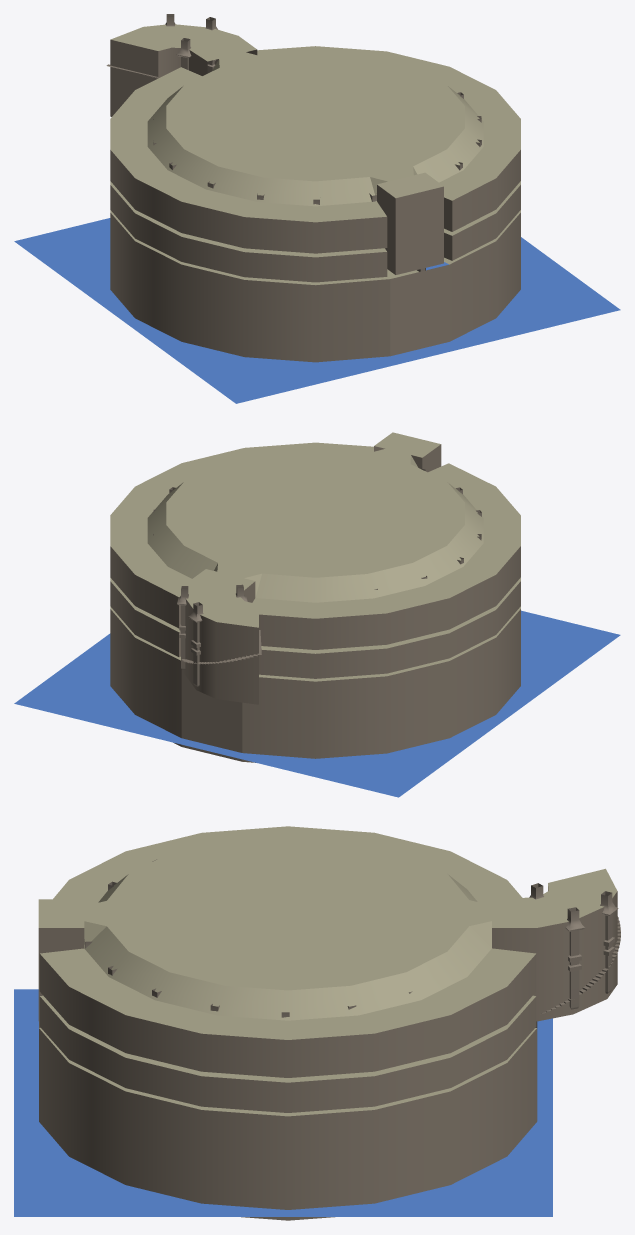
The model's file is MDL_Stage01.fbx.
3 views of the same model, one above another, from view 1: azimuth 30°, elevation 25°; view 2: azimuth 150°, elevation 25°; view 3: azimuth 270°, elevation 25° (orthographic). The views are drawn at different scales.
Parts seen in each view (by area): view 1: stage; view 2: stage; view 3: stage.
Part boxes in pixels (x1,y1,x2,y2): stage: [14, 14, 620, 403]; stage: [14, 432, 620, 797]; stage: [14, 826, 620, 1220].
Bounding box in the file's own units: 25194 × 11375 × 28370.
